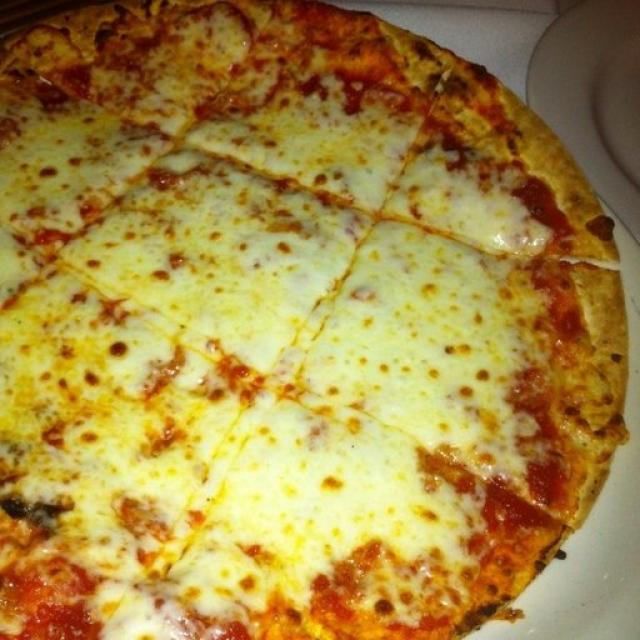Pizza: (0, 1, 626, 640)
